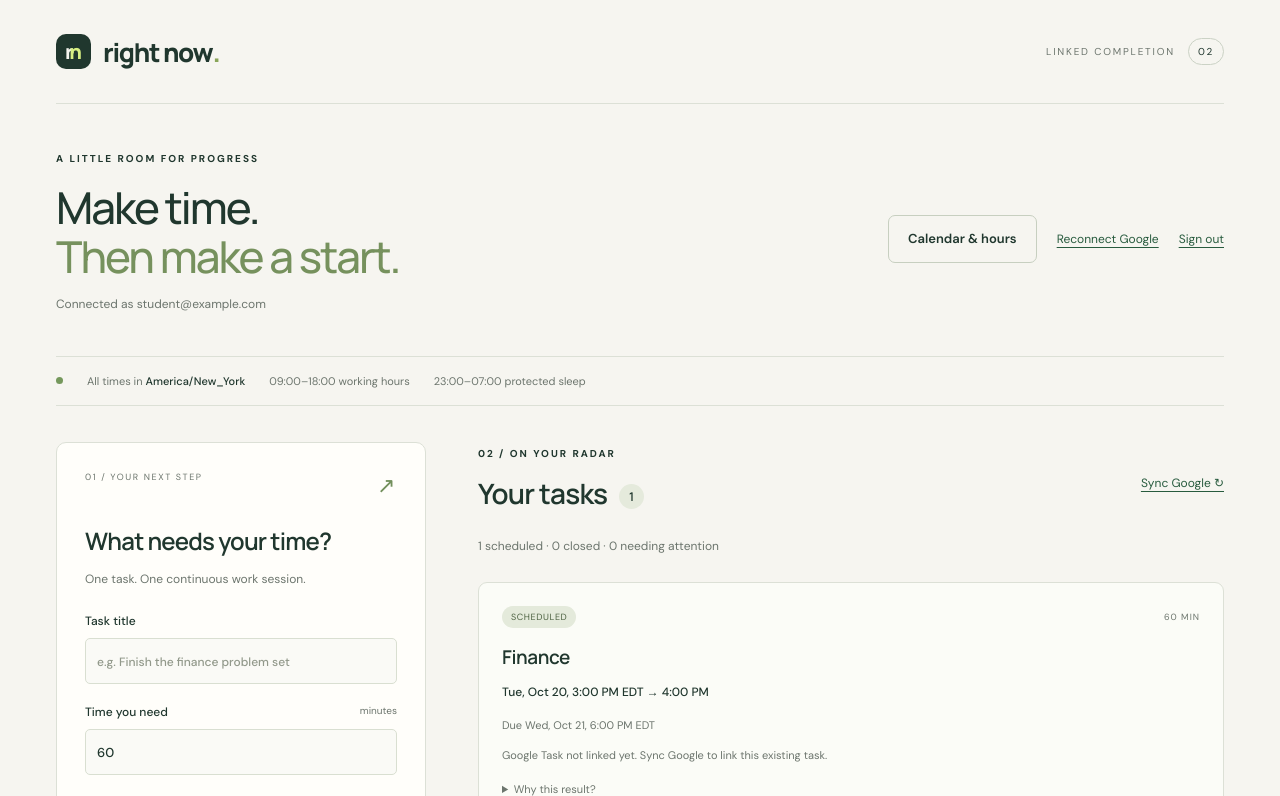
Scenario: Signed-in structured task form › shows a partial sync failure while preserving saved task results
Click the button "Sync Google ↻". click: (1182, 483)
box: [1141, 471, 1224, 495]
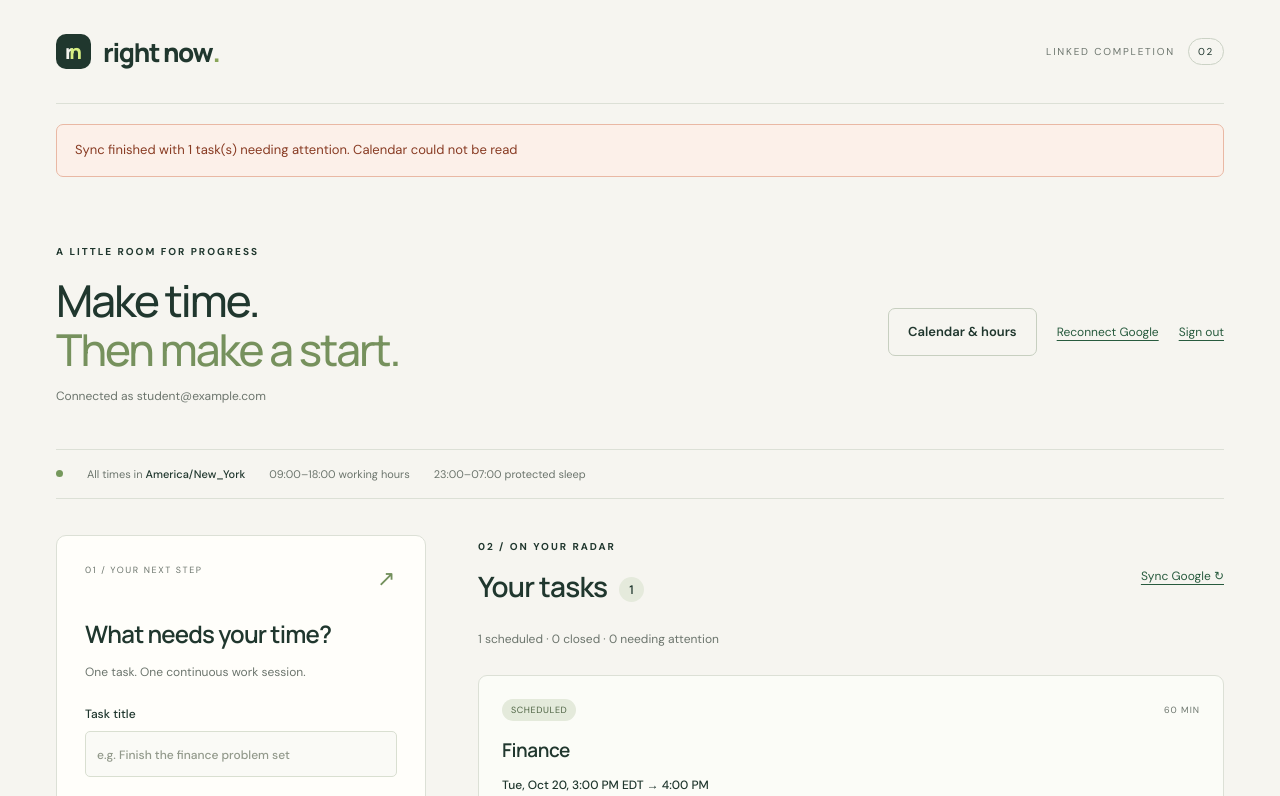
Expected: the heading "Finance" is shown, [502, 737, 570, 763]
Result: the message shows "Calendar could not be read" at [75, 141, 517, 158]
